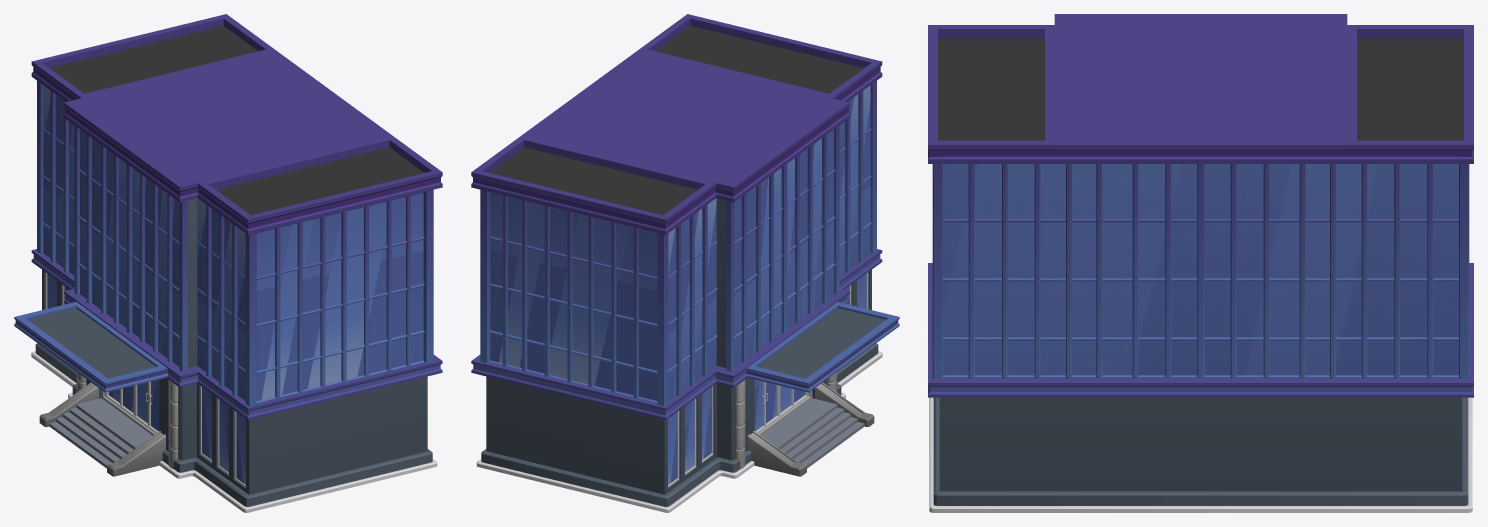
The model's file is Building_17_1_K.glb.
3 renders of one model, left to right at view 1: azimuth 30°, elevation 25°; view 2: azimuth 150°, elevation 25°; view 3: azimuth 270°, elevation 25°, orthographic. The views are drawn at different scales.
Visible parts, largest first — view 1: Building_17_1_K; view 2: Building_17_1_K; view 3: Building_17_1_K.
Boxes of the visible parts, x1=… form: Building_17_1_K: x1=14, y1=14, x2=442, y2=512; Building_17_1_K: x1=471, y1=14, x2=899, y2=512; Building_17_1_K: x1=928, y1=14, x2=1473, y2=512.
Size of the model in its own units: 8.57 by 8.75 by 11.68.
Materials: 4 (4 with a texture image).
